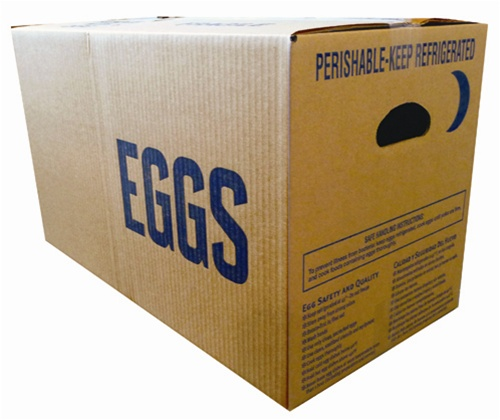Rec_Paper: (1, 10, 480, 403)
